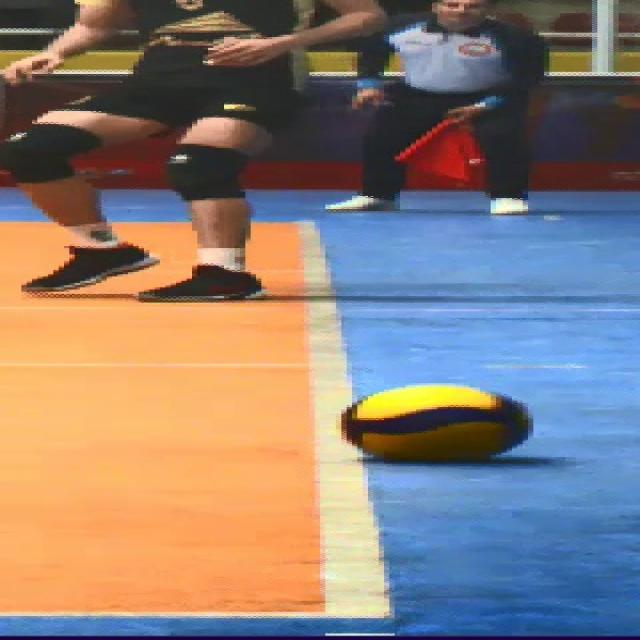Volleyball: (344, 384, 531, 460)
